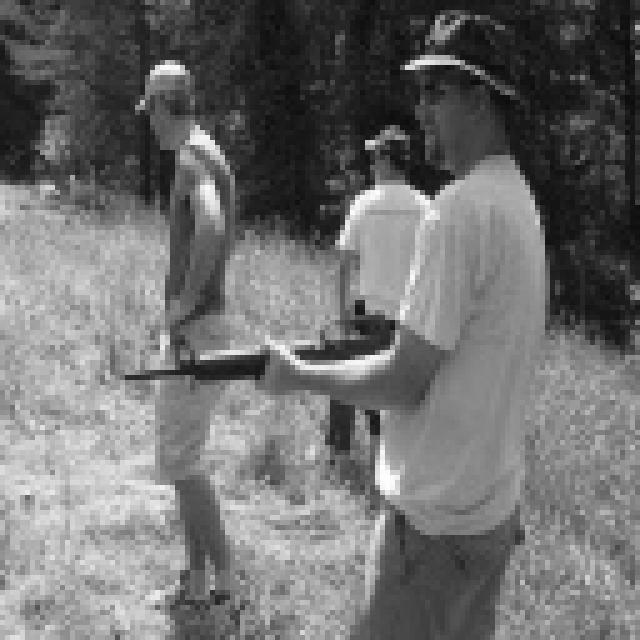Rifle: (108, 320, 421, 440)
